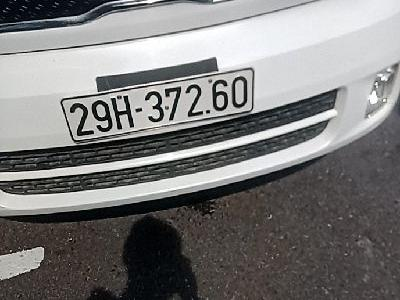number: (59, 67, 254, 143)
